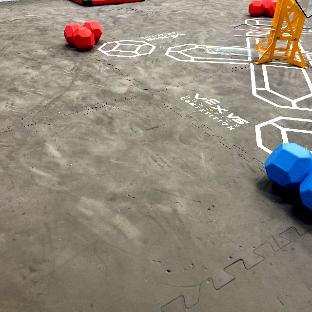V5_BLUE: (265, 142, 312, 213)
V5_RED: (64, 21, 101, 49), (250, 0, 276, 17)
